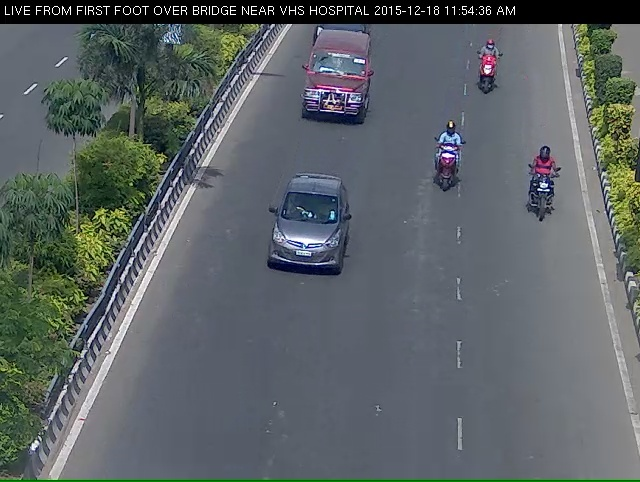Car: (258, 178, 348, 296), (293, 43, 367, 144), (300, 19, 372, 56)
Person: (522, 154, 575, 247), (427, 133, 468, 213), (466, 47, 503, 107)
